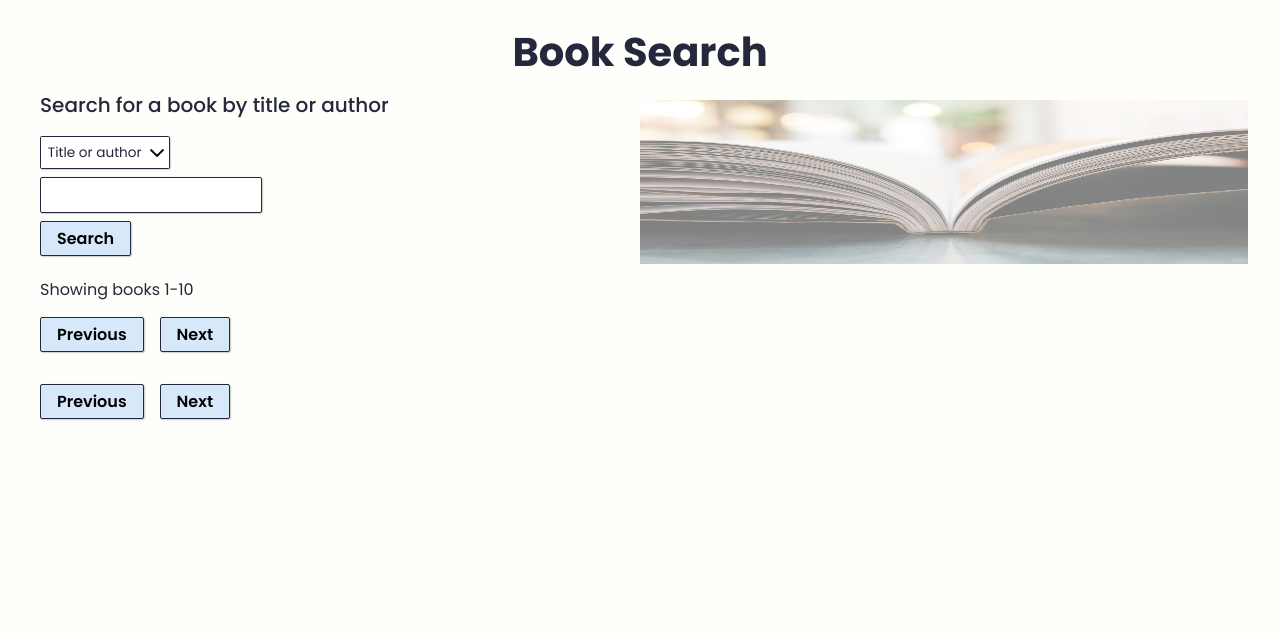
App tests with card data with more than 10 cards › tests more than 10 cards
The width and height of the screenshot is (1280, 633).
Type "test" into the search field at (151, 195), box [40, 177, 262, 213]
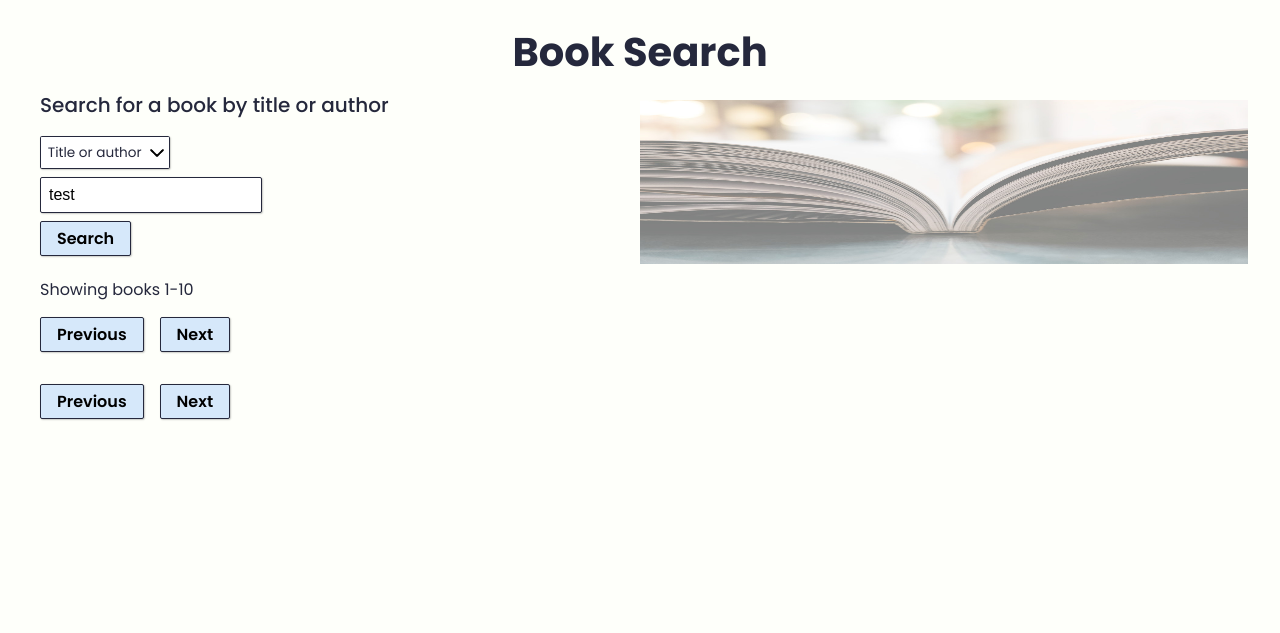
Select "Title" in the dropdown with test id "select" at (105, 153), box [40, 136, 170, 169]
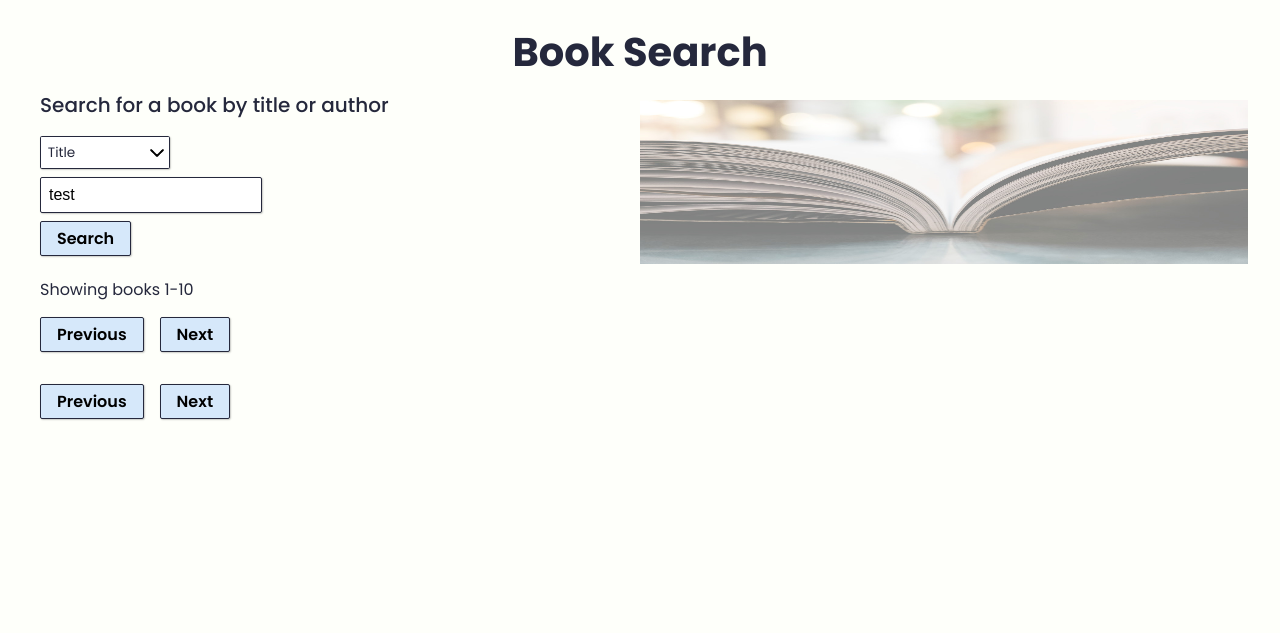
Click the button "Search" at (86, 239), box [40, 221, 131, 256]
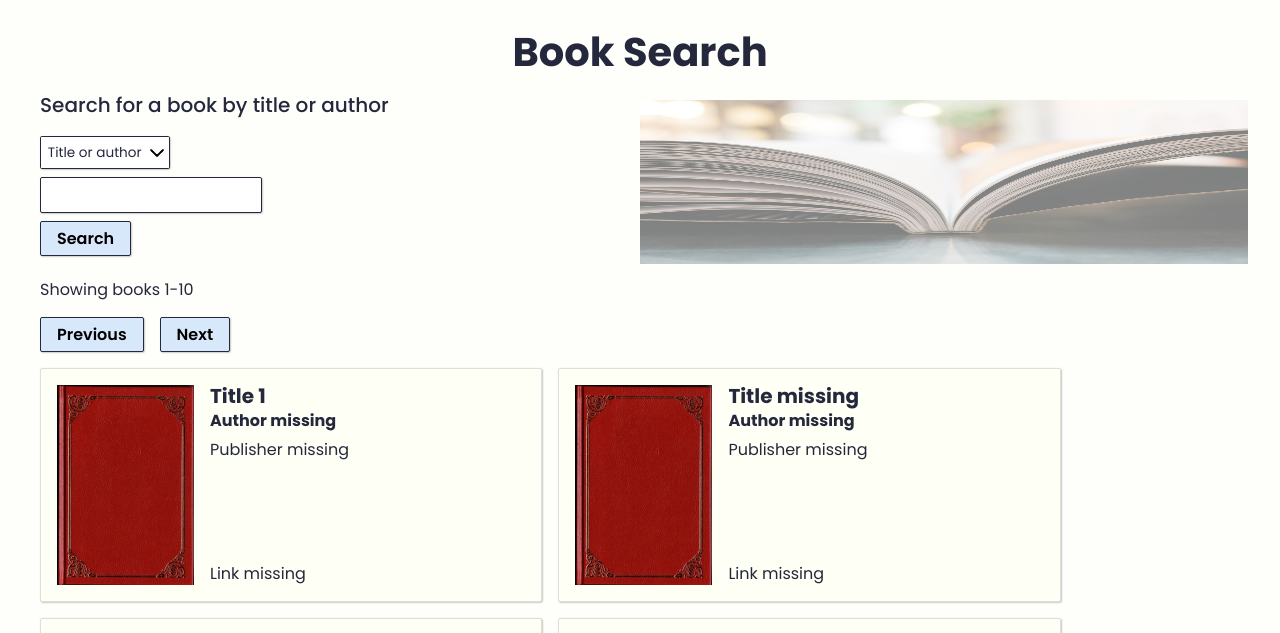
Now the text "Title 1" is shown, box [210, 382, 266, 410]
Click the button "Next" at (195, 335), box [160, 317, 230, 352]
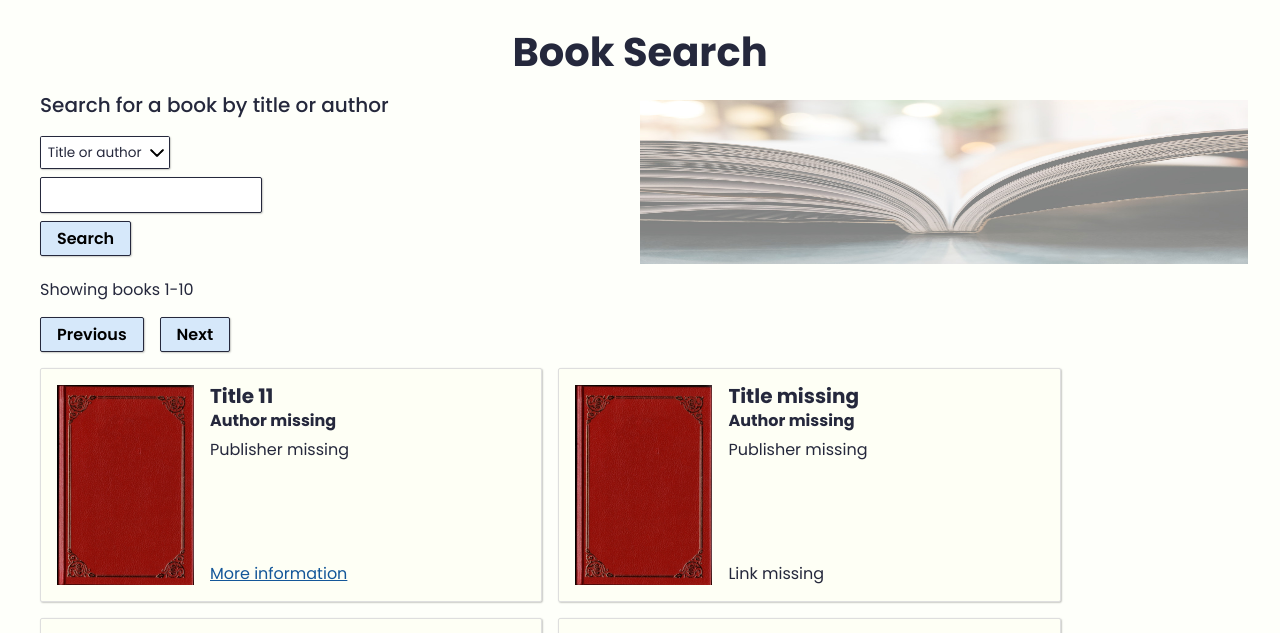
Now the text "Title 11" is shown, box [210, 382, 273, 410]
